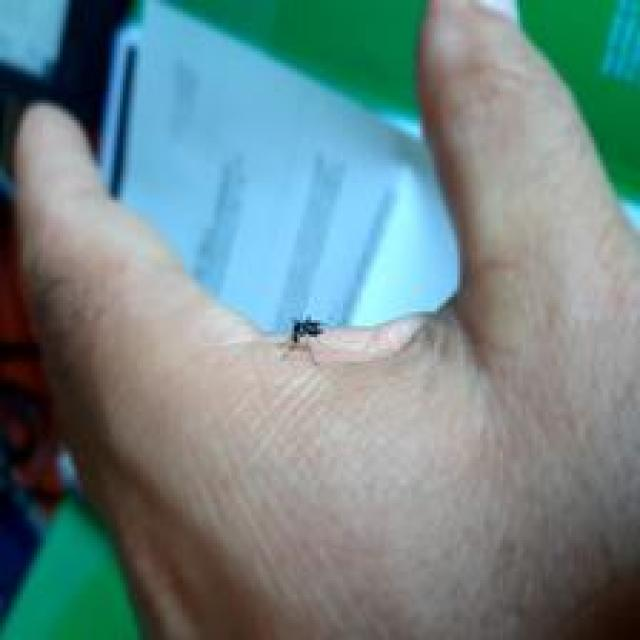Aedes albopictus: (280, 314, 329, 366)
